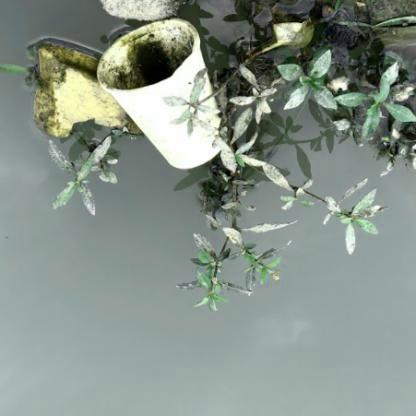Plastic: (93, 16, 224, 173)
